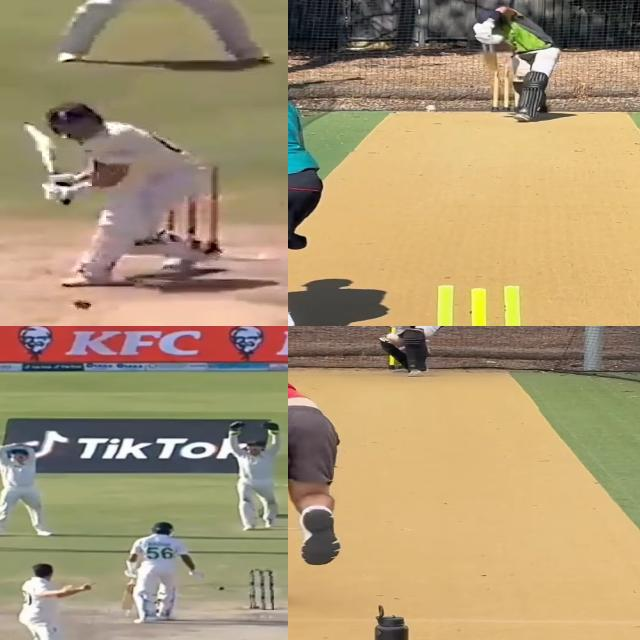Cricket ball: (71, 296, 92, 311), (384, 332, 401, 342), (425, 104, 438, 112)
Stumps: (413, 282, 550, 326), (489, 64, 522, 113), (249, 568, 274, 610)
